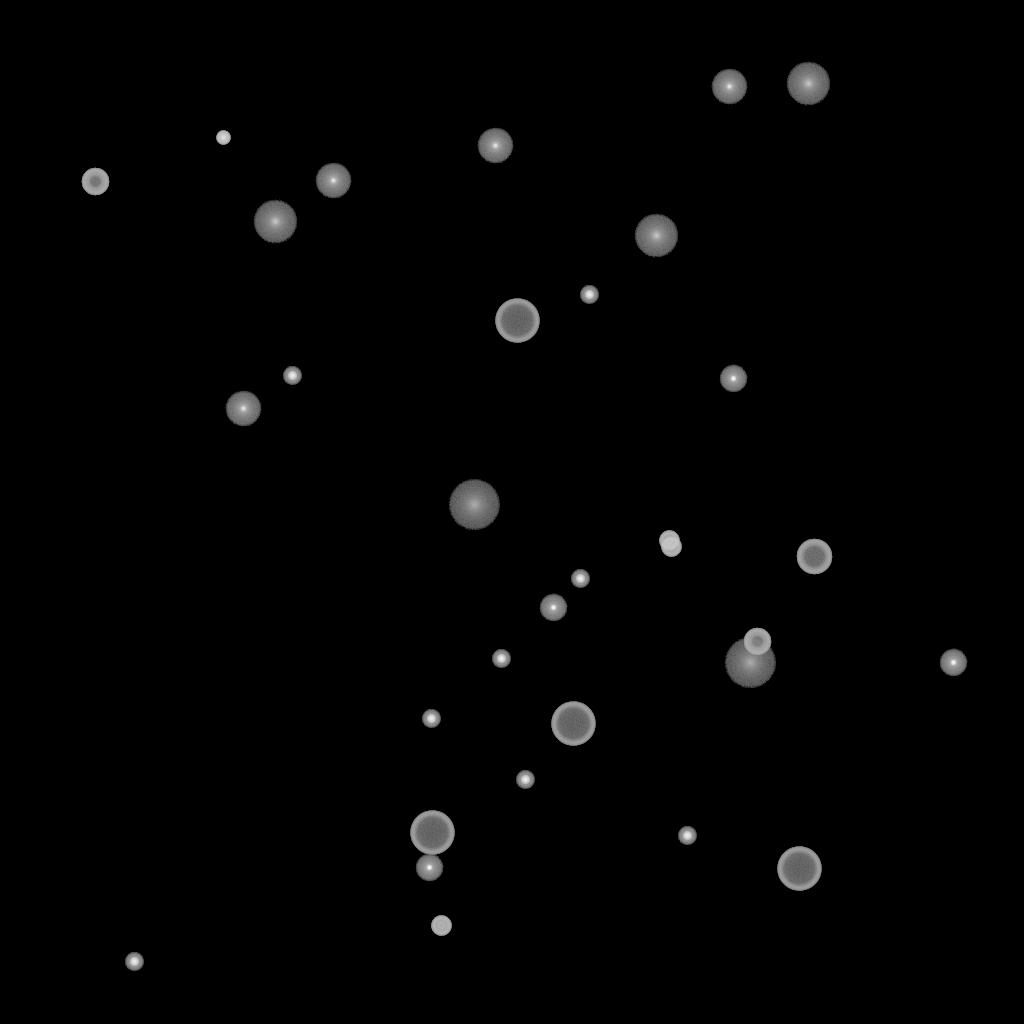depth:-10: (719, 365, 747, 393), (939, 649, 967, 677), (415, 854, 443, 882), (539, 594, 567, 622)
depth:-20: (580, 286, 598, 304), (422, 710, 440, 728), (516, 771, 534, 789), (678, 827, 696, 845), (492, 650, 510, 668), (571, 570, 589, 588), (125, 953, 143, 971), (283, 367, 301, 385)
depth:-30: (216, 131, 230, 145)
depth:-40: (659, 531, 679, 551), (661, 537, 681, 557), (431, 916, 451, 936)
depth:-50: (81, 168, 109, 196), (743, 628, 771, 656)
depth:-60: (796, 539, 832, 575)
depth:-70: (410, 811, 454, 855), (777, 847, 821, 891), (495, 299, 539, 343), (551, 702, 595, 746)
depth:0: (315, 163, 351, 199), (477, 128, 513, 164), (225, 391, 261, 427), (711, 69, 747, 105)
depth:10: (786, 62, 830, 106), (253, 200, 297, 244), (634, 214, 678, 258)
depth:20: (448, 480, 500, 530), (724, 638, 776, 688)
